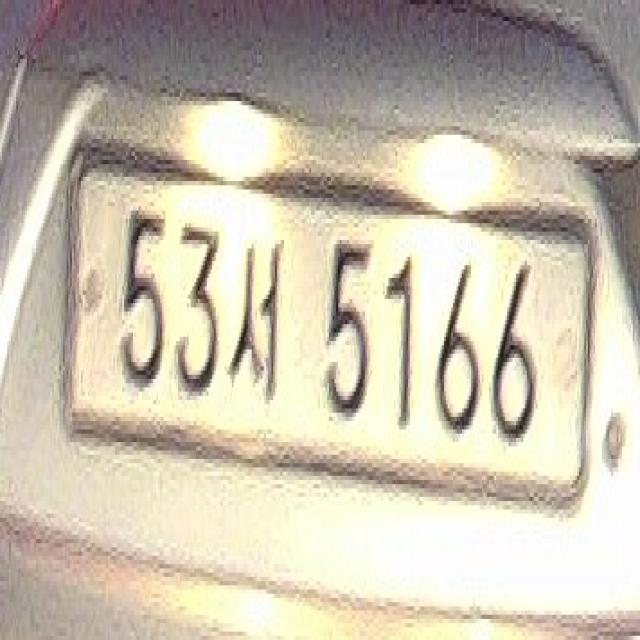1: (371, 210, 414, 438)
3: (180, 202, 224, 446)
5: (111, 202, 172, 387), (325, 214, 374, 433)
6: (492, 244, 556, 488), (424, 257, 491, 450)
license_plate: (59, 139, 600, 552)
seo: (225, 215, 286, 412)
